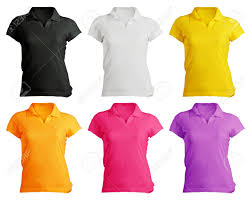S_polo shirt: (168, 101, 248, 194), (7, 5, 83, 101), (3, 101, 82, 191), (87, 5, 158, 104), (171, 4, 244, 99), (91, 103, 166, 192)
